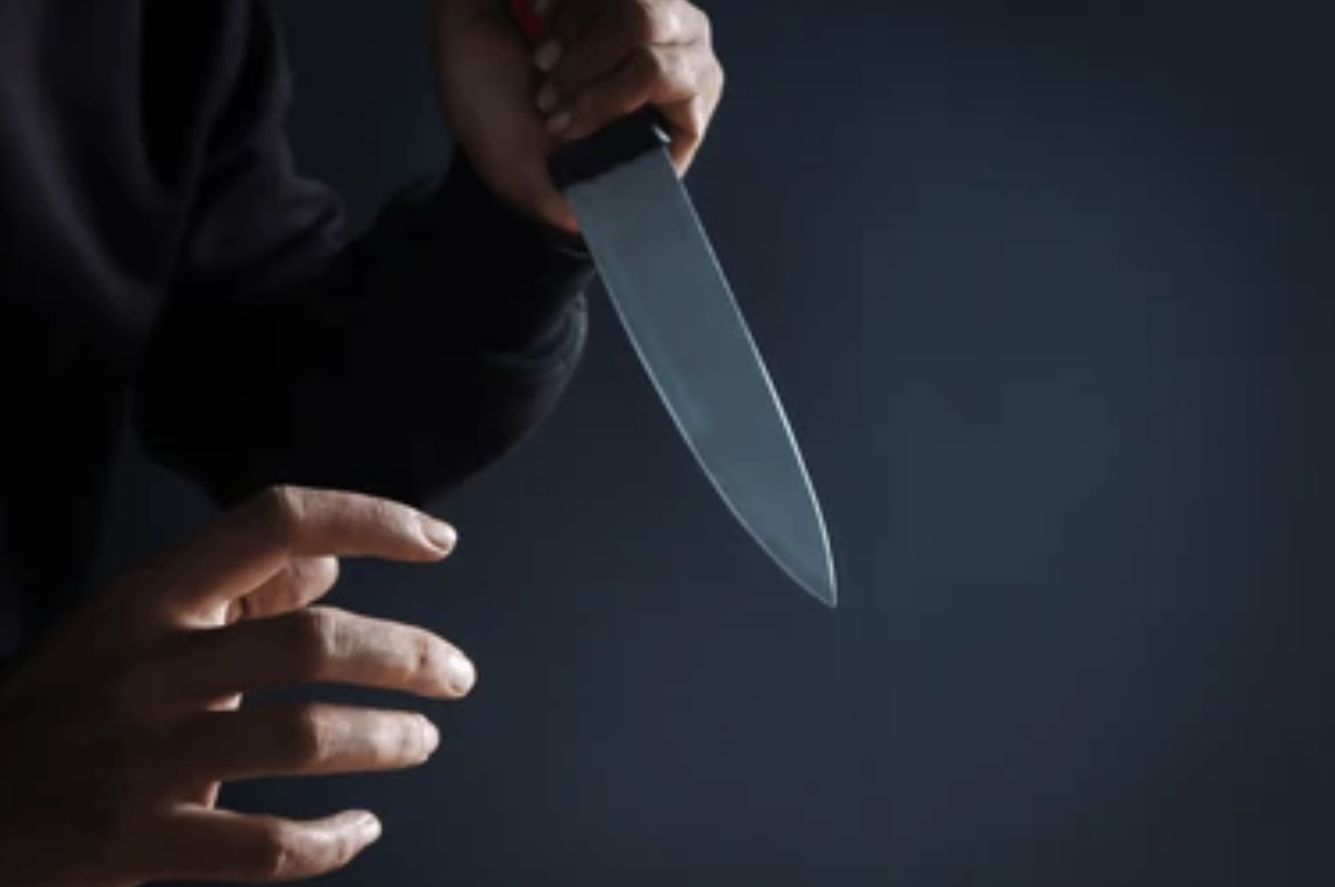knife_62.png: (522, 112, 905, 638)
